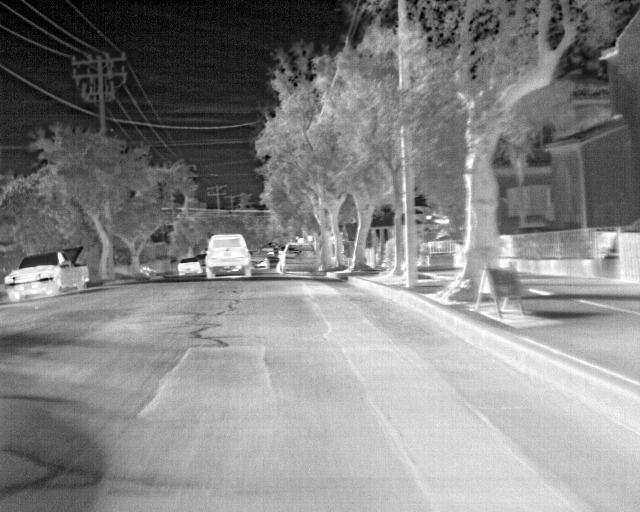car: (3, 249, 91, 304), (204, 234, 252, 281), (277, 243, 321, 276), (175, 256, 201, 275), (263, 250, 279, 271), (194, 251, 207, 269)
